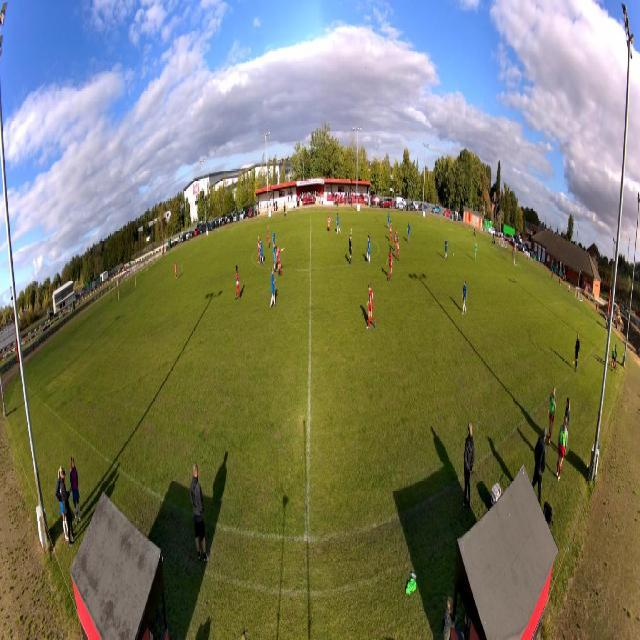ball: (452, 253, 454, 257)
player: (366, 282, 377, 330), (270, 267, 277, 311), (276, 244, 285, 278), (386, 246, 394, 283), (235, 264, 241, 302), (461, 278, 467, 316), (349, 227, 353, 266), (366, 235, 371, 264), (259, 238, 264, 266), (395, 235, 400, 263), (273, 241, 277, 273), (257, 234, 261, 266), (336, 213, 341, 235), (272, 229, 277, 250), (394, 228, 398, 253), (444, 237, 448, 262), (266, 225, 270, 249), (407, 221, 411, 243), (474, 241, 478, 262), (174, 260, 178, 280), (327, 212, 331, 231), (389, 220, 392, 242), (387, 211, 390, 229)
